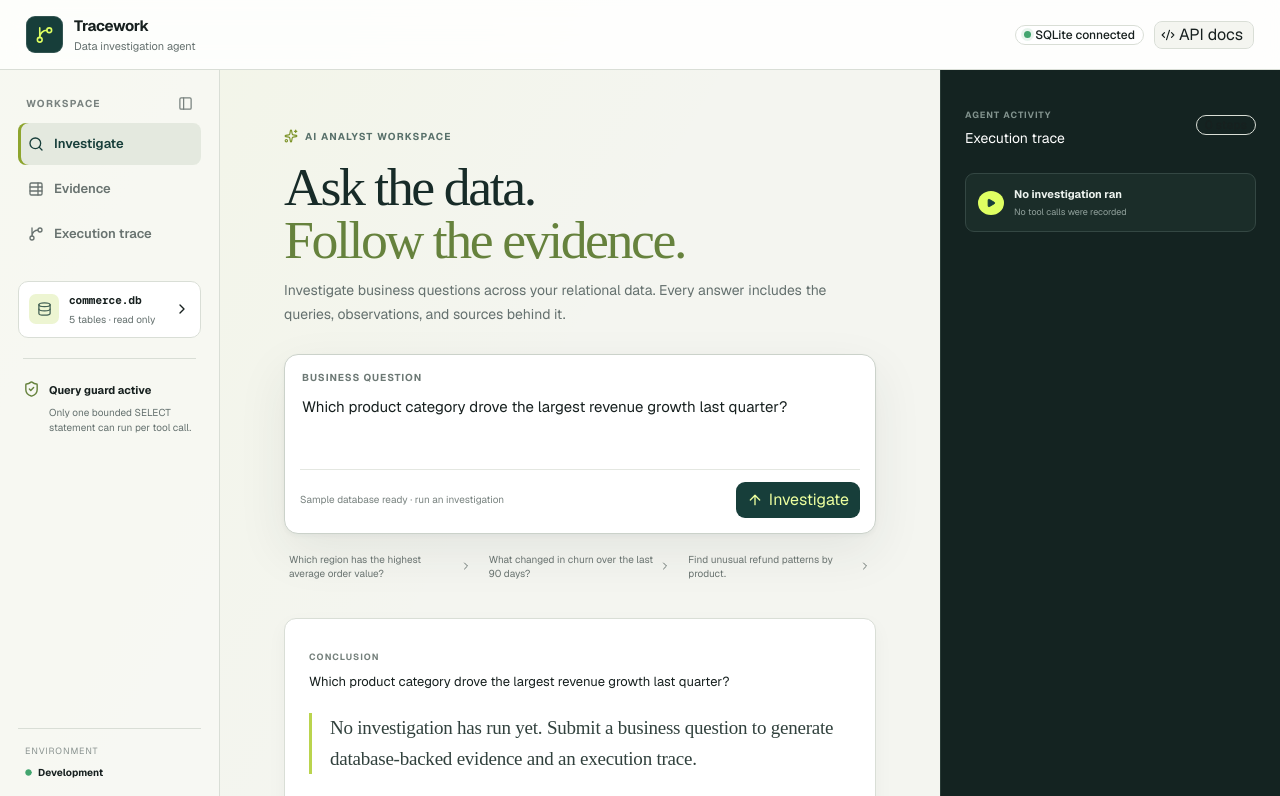
a successful investigation still reports the completed trace
Step 1. Click the button "Which region has the highest average order value?" → (380, 567), box 284,546 -> 477,588
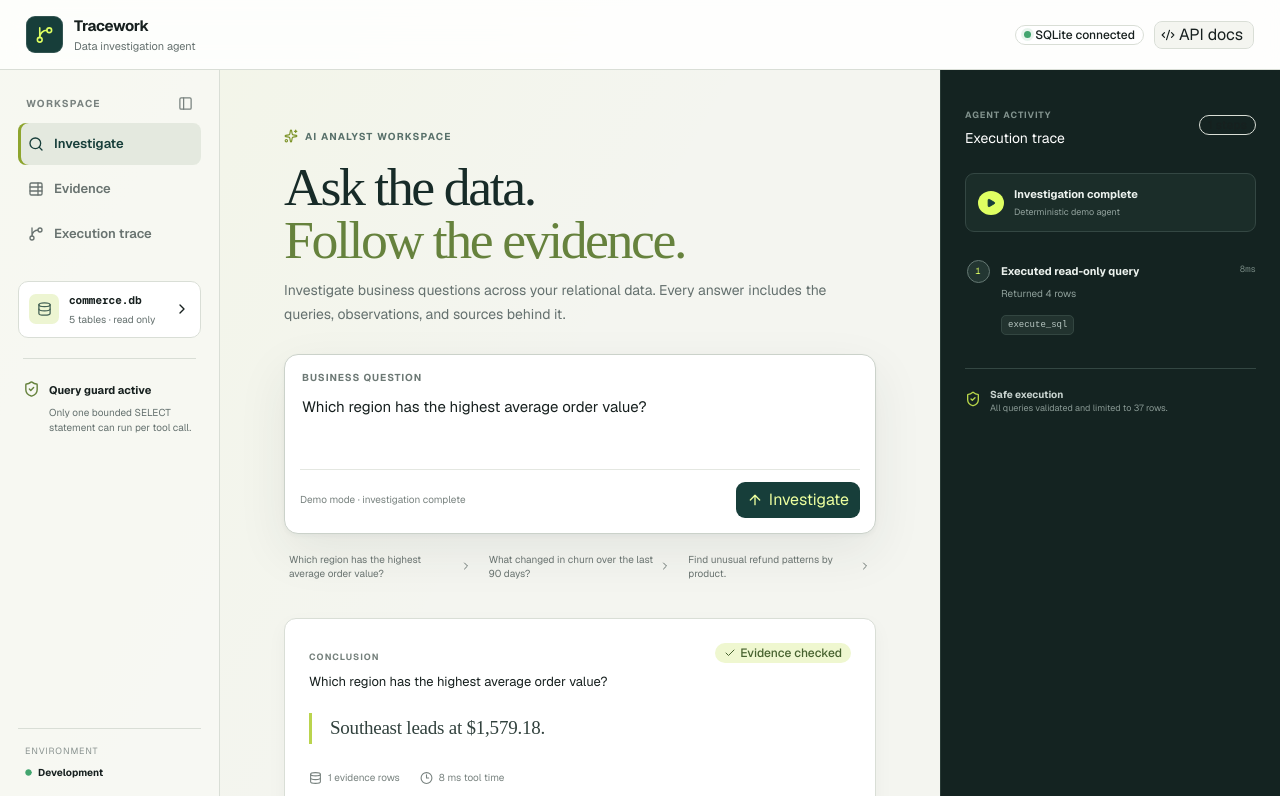
Expected: the text "Investigation complete" is shown, 1014,186 -> 1138,202
Expected: the text "Deterministic demo agent" is shown, 1014,206 -> 1138,219
Expected: the text "Safe execution" is shown, 990,388 -> 1063,401
